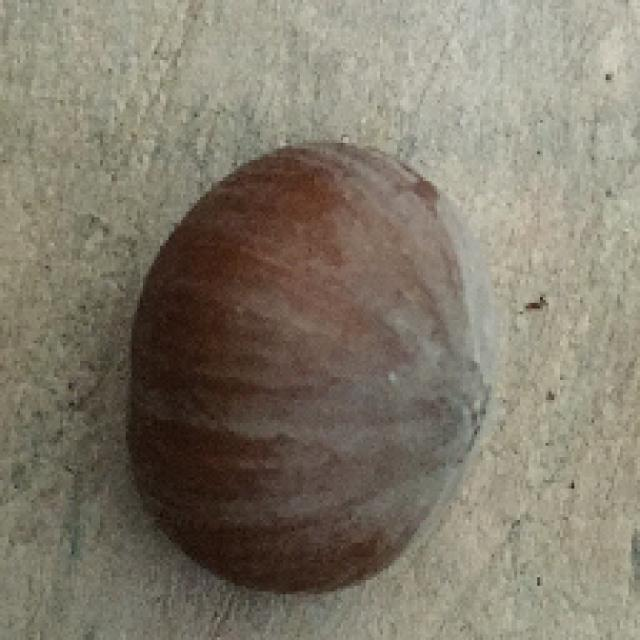qualityHazelnut: (124, 133, 502, 600)
